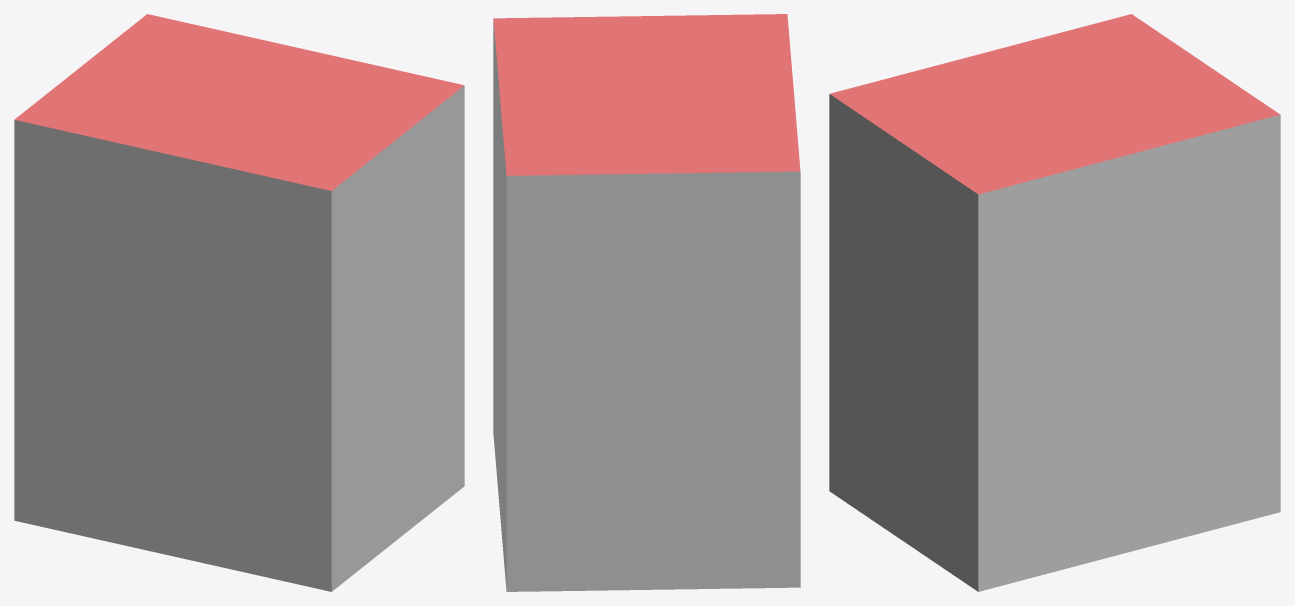
3 views of the same model, side by side, from view 1: azimuth 30°, elevation 25°; view 2: azimuth 150°, elevation 25°; view 3: azimuth 270°, elevation 25° (orthographic). The views are drawn at different scales.
Visible parts, largest first — view 1: Z_UP; view 2: Z_UP; view 3: Z_UP.
Part boxes in pixels (<box>): Z_UP: <box>14,14,464,591</box>; Z_UP: <box>493,14,800,591</box>; Z_UP: <box>829,14,1280,591</box>.
Bounding box in the file's own units: 15.58 × 16 × 16.46.
